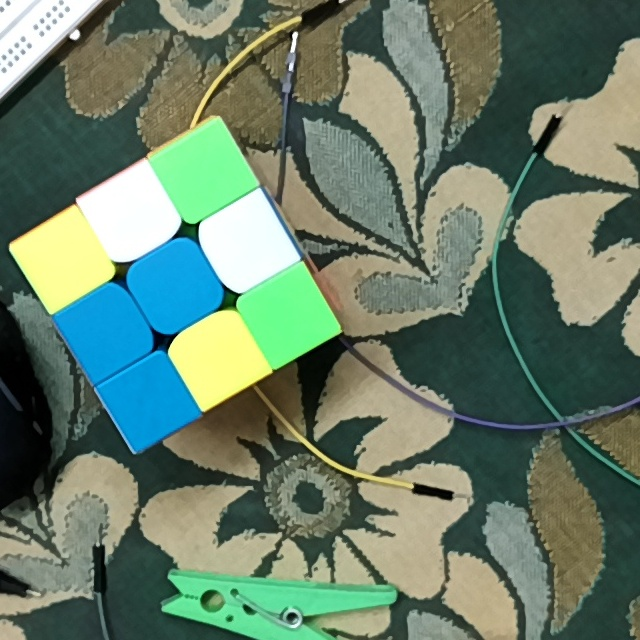tile: (172, 147, 234, 200), (147, 263, 206, 316), (123, 374, 178, 430), (261, 288, 316, 344), (103, 189, 162, 241), (219, 215, 274, 270), (80, 303, 134, 358), (34, 233, 88, 286), (191, 331, 244, 384)
